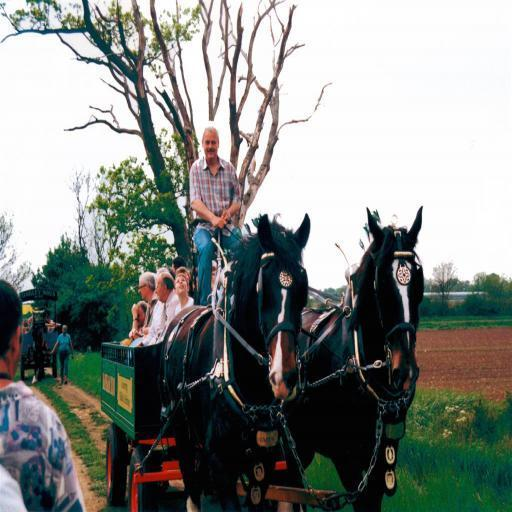horse: (158, 210, 312, 512), (282, 208, 424, 512)
